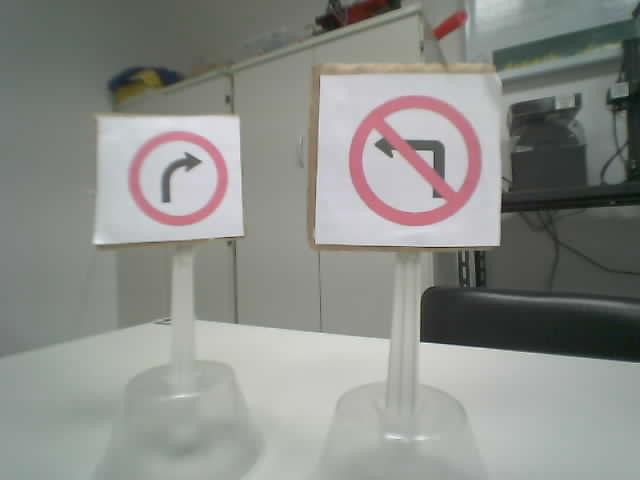R-25b_direita: (128, 129, 227, 226)
R-4a_proibido-esquerda: (347, 94, 482, 226)
